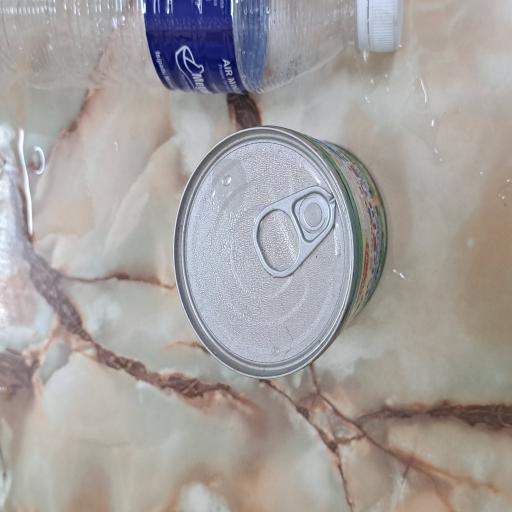can: (103, 232, 288, 512)
plastic bottle: (314, 0, 384, 480)
plastic bottle cap: (344, 478, 384, 512)
pop tab: (175, 334, 244, 447)
